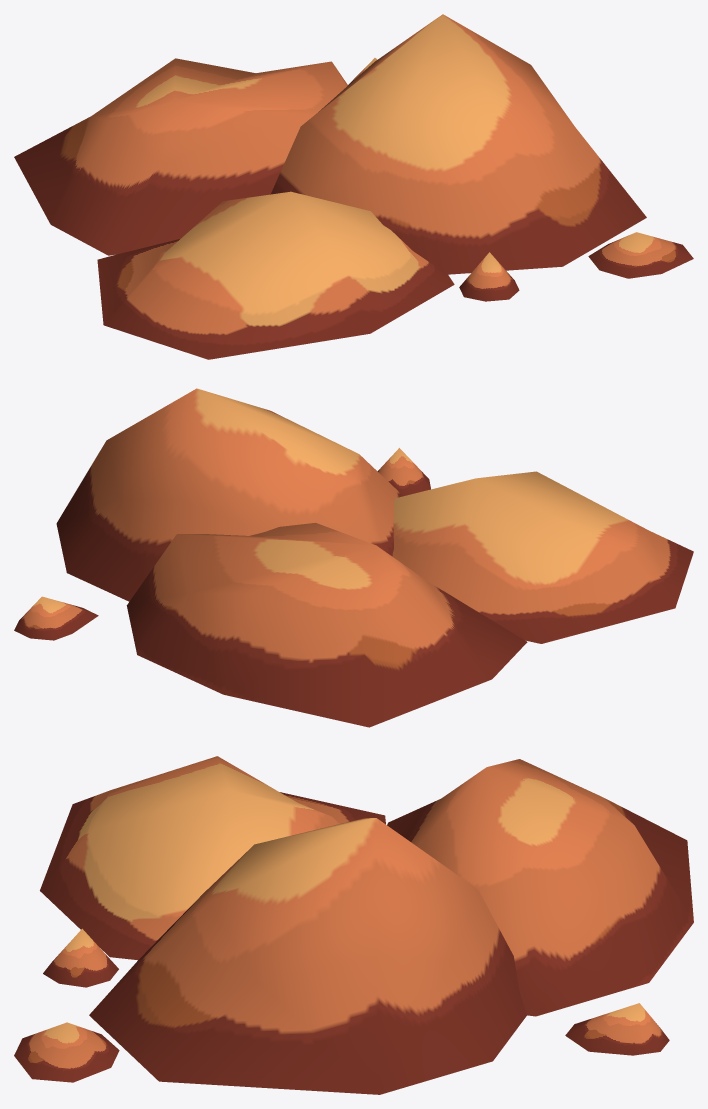
File: Rock 1x 1 2_preview_3DS_simplified.glb
The picture shows the model from 3 angles, top to bottom: view 1: azimuth 30°, elevation 25°; view 2: azimuth 150°, elevation 25°; view 3: azimuth 270°, elevation 25°; orthographic projection. The views are drawn at different scales.
Parts seen in each view (by area): view 1: Marine Park Empire model; view 2: Marine Park Empire model; view 3: Marine Park Empire model.
Boxes of the visible parts, x1,y1,x2,y2 form: Marine Park Empire model: (14,14,693,359); Marine Park Empire model: (14,388,693,727); Marine Park Empire model: (14,756,693,1094).
Size of the model in its own units: 28.14 by 8.24 by 25.58.
Materials: 1 (1 with a texture image).
